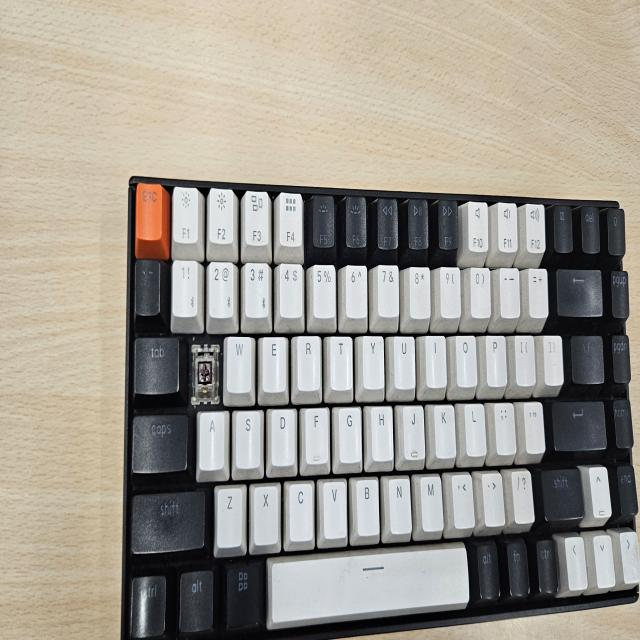C: (192, 346, 217, 398)
